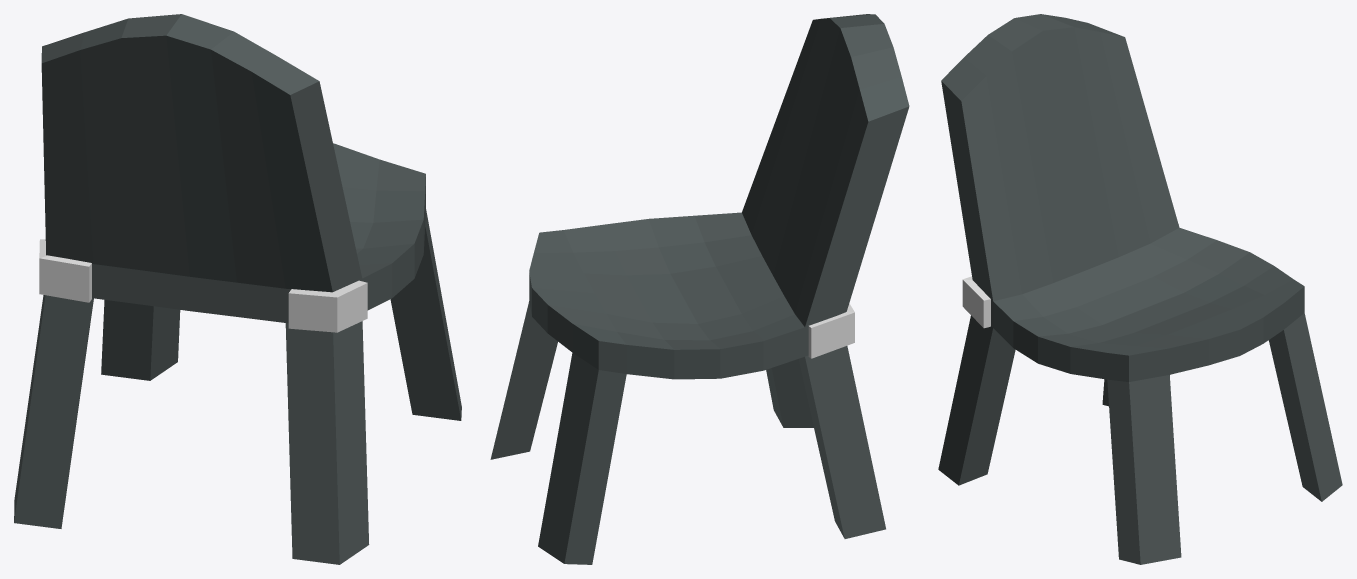
The model's file is Chair-1.fbx.
3 renders of one model, left to right at view 1: azimuth 30°, elevation 25°; view 2: azimuth 150°, elevation 25°; view 3: azimuth 270°, elevation 25°, orthographic. The views are drawn at different scales.
Parts seen in each view (by area): view 1: Chair-1; view 2: Chair-1; view 3: Chair-1.
Boxes of the visible parts, x1,y1,x2,y2 form: Chair-1: (14,14,461,564); Chair-1: (490,14,909,564); Chair-1: (938,14,1342,564).
Bounding box in the file's own units: 1.43 × 1.58 × 1.43.
